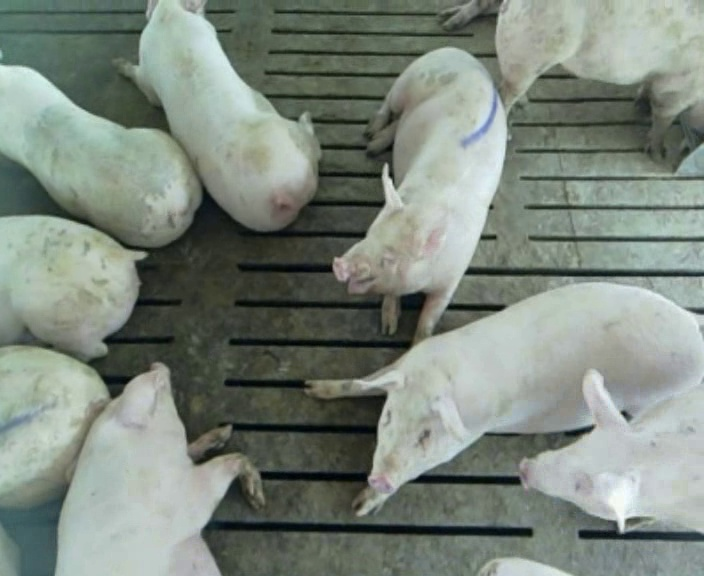pig: (305, 285, 703, 514), (333, 48, 506, 342), (114, 1, 320, 231), (57, 363, 263, 574), (496, 2, 703, 158), (520, 369, 703, 532)
